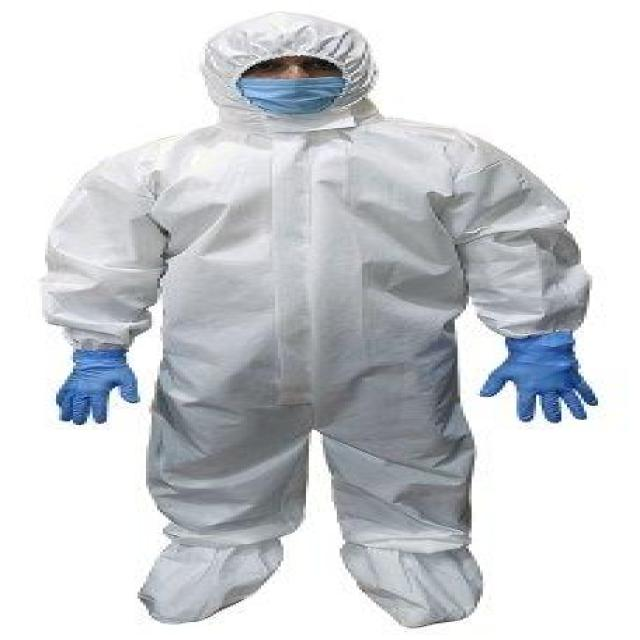Coverall: (37, 9, 601, 627)
Gloves: (480, 333, 609, 424), (54, 348, 138, 420)
Mask: (230, 76, 348, 112)
